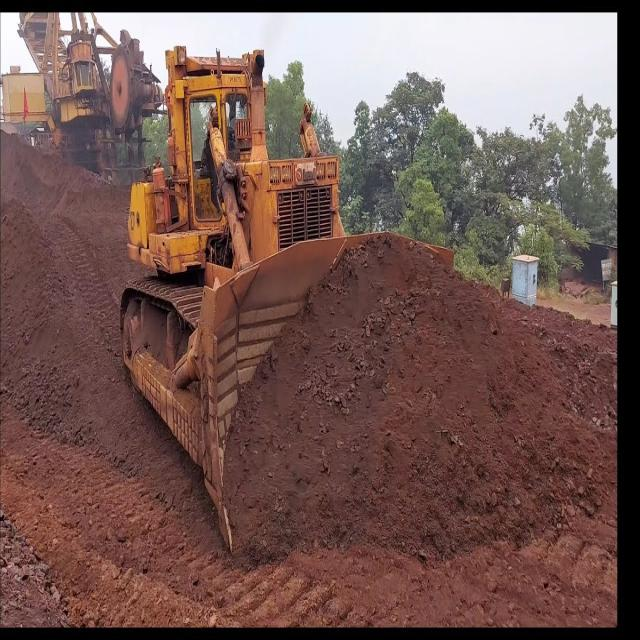buldozerpayloadergrader: (130, 42, 458, 570)
